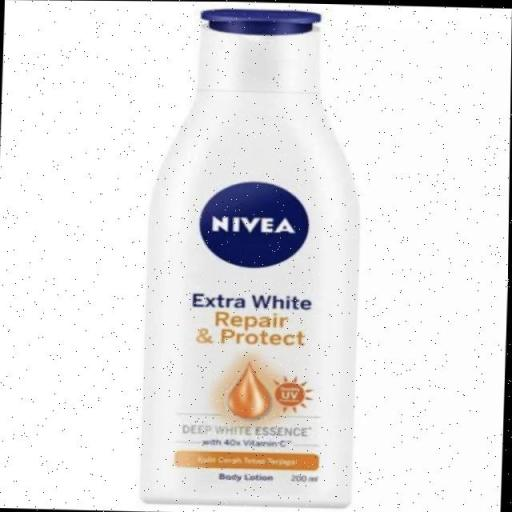plastic: (134, 3, 376, 512)
